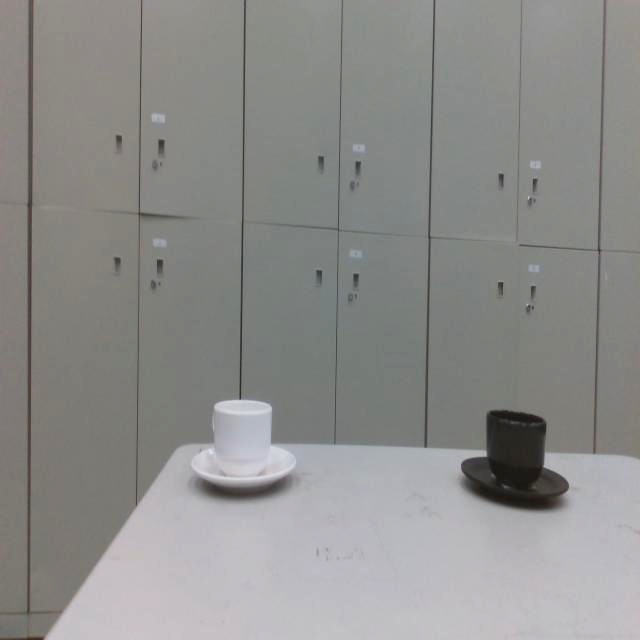black: (454, 404, 571, 514)
white: (192, 396, 297, 504)
